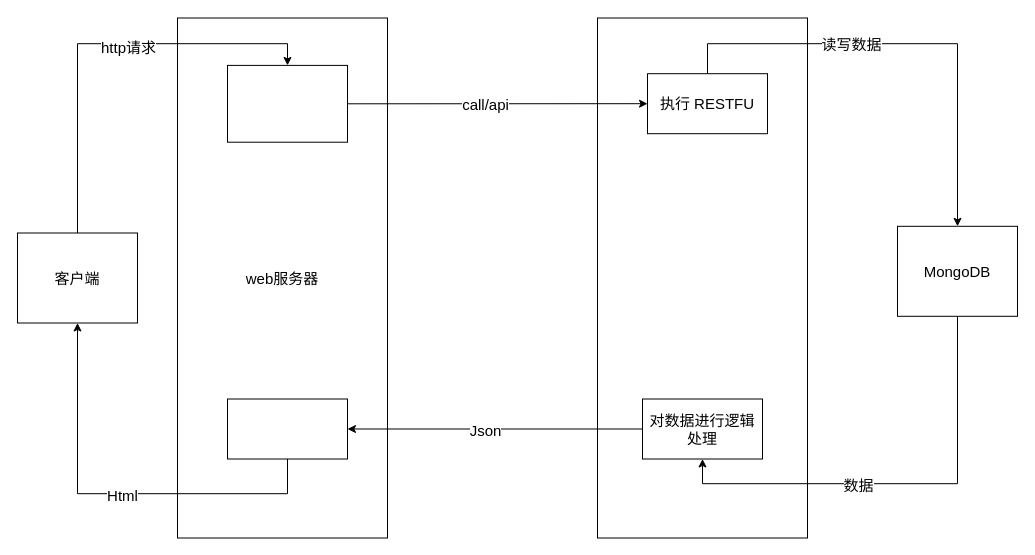
Image size: 1035x555. Some labels were removed from this diagram. Each missing label, with the box of its shape:
1.解析Http请求 2.请求应用服务器 RESTFUL方法: (226, 64, 348, 142)
应用服务器: (596, 17, 808, 538)
渲染Json+模板: (226, 398, 348, 459)
